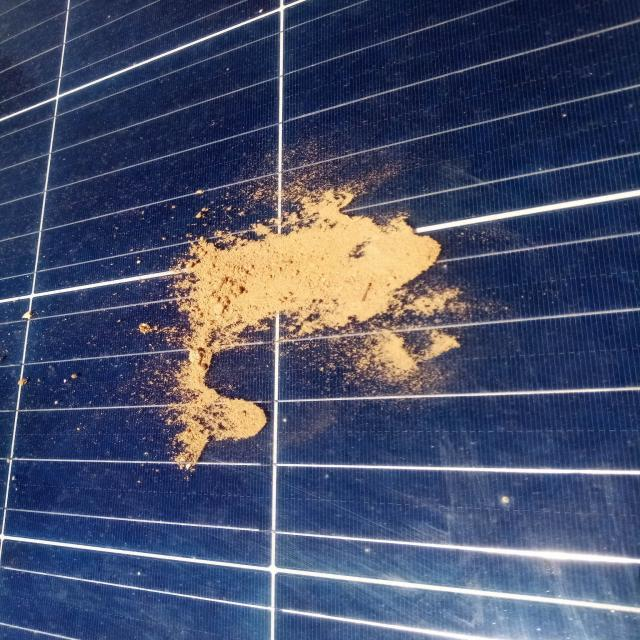faulty: (280, 198, 639, 555), (287, 9, 639, 245), (7, 257, 269, 538), (37, 23, 276, 285)
